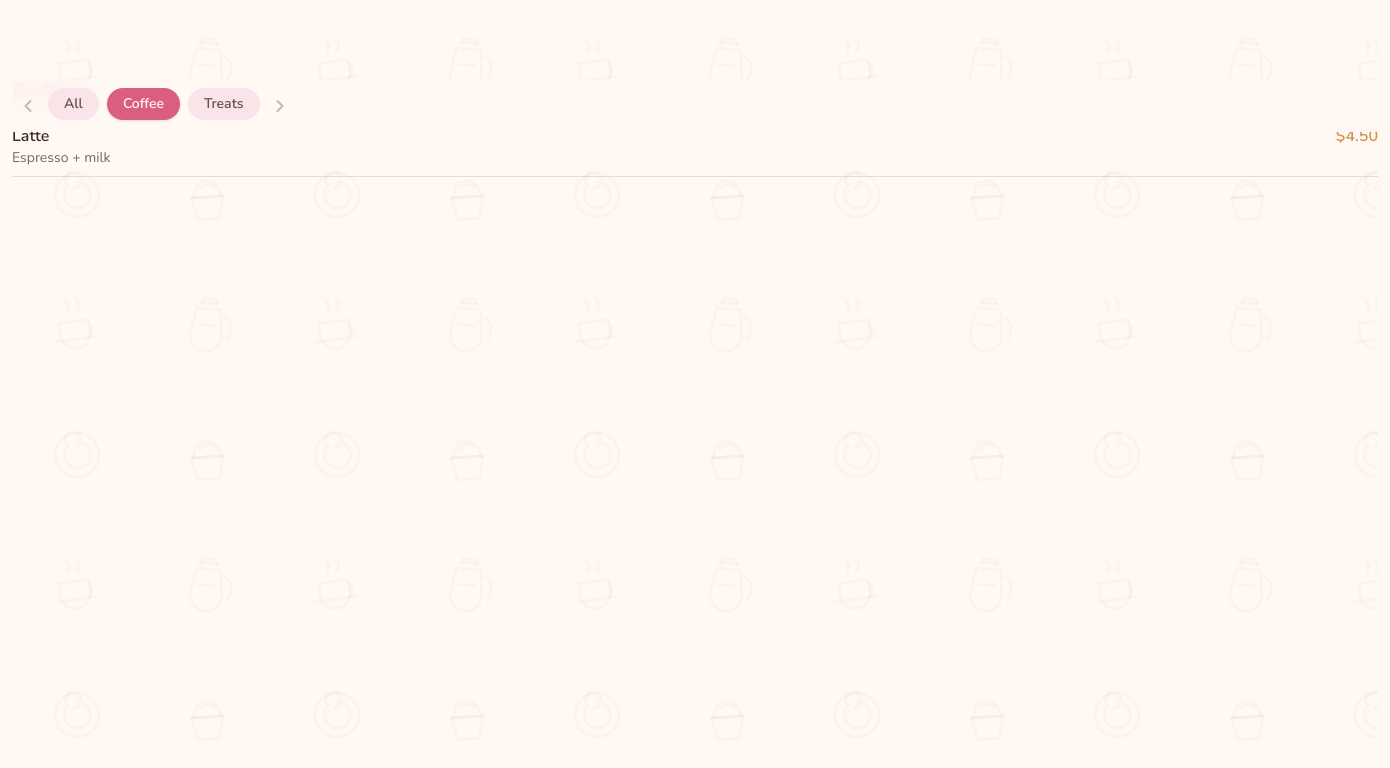
MenuList › shows every category when All is tapped
Click the button "All" at (73, 104), box 48,88 -> 99,120
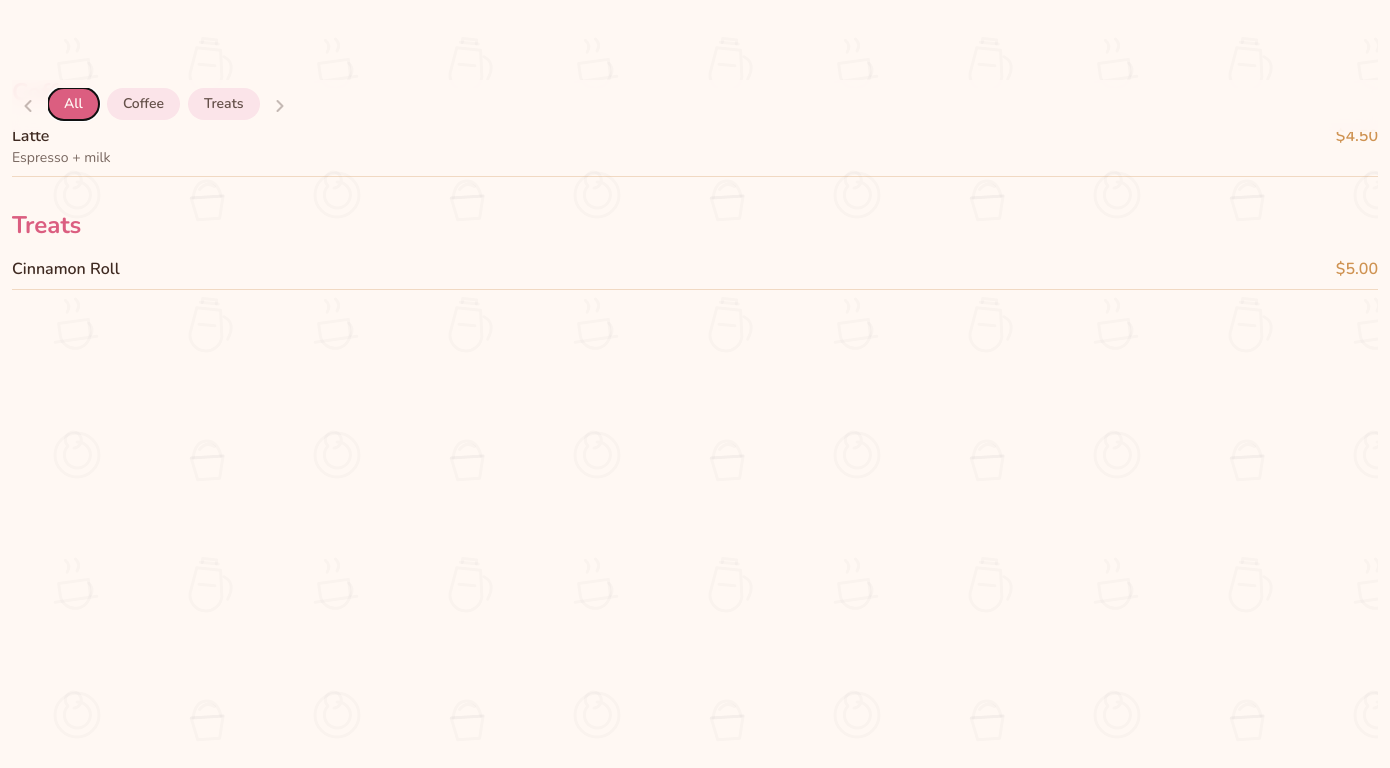
Check: the text "Latte" is shown, box 12,125 -> 49,147
Check: the text "Cinnamon Roll" is shown, box 12,257 -> 120,281
